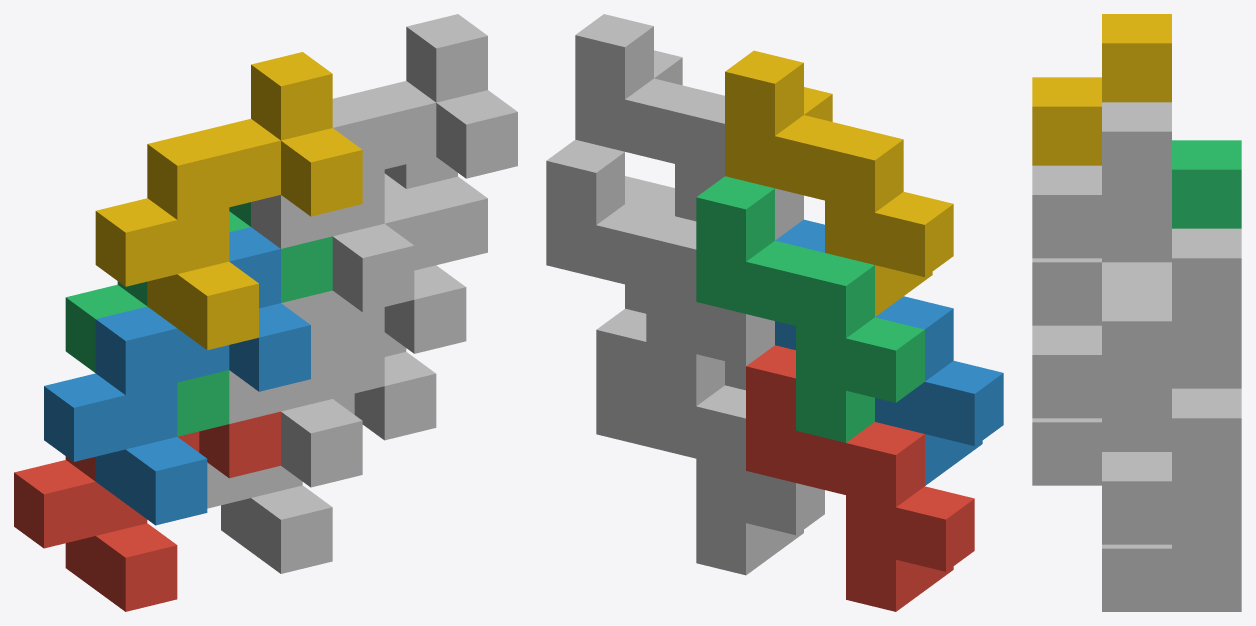
The model's file is tiling.obj.
The picture shows the model from 3 angles, left to right: view 1: azimuth 30°, elevation 25°; view 2: azimuth 150°, elevation 25°; view 3: azimuth 270°, elevation 25°; orthographic projection. The views are drawn at different scales.
Parts seen in each view (by area): view 1: copy_1_domain_4, copy_1_domain_2, copy_1_domain_8, copy_1_domain_6, copy_1_domain_1, copy_1_domain_5, copy_1_domain_3, copy_1_domain_7; view 2: copy_1_domain_3, copy_1_domain_4, copy_1_domain_1, copy_1_domain_7, copy_1_domain_5, copy_1_domain_8, copy_1_domain_2, copy_1_domain_6; view 3: copy_1_domain_5, copy_1_domain_8, copy_1_domain_7, copy_1_domain_6, copy_1_domain_4, copy_1_domain_3.
Boxes of the visible parts, left/top/right/bottom form: copy_1_domain_4: left=95, top=52, right=362, bottom=350; copy_1_domain_2: left=44, top=227, right=310, bottom=525; copy_1_domain_8: left=251, top=14, right=517, bottom=312; copy_1_domain_6: left=229, top=189, right=466, bottom=487; copy_1_domain_1: left=14, top=411, right=280, bottom=611; copy_1_domain_5: left=207, top=332, right=436, bottom=573; copy_1_domain_3: left=65, top=202, right=332, bottom=436; copy_1_domain_7: left=332, top=157, right=487, bottom=398; copy_1_domain_3: left=696, top=176, right=924, bottom=442; copy_1_domain_4: left=725, top=50, right=953, bottom=316; copy_1_domain_1: left=746, top=345, right=974, bottom=611; copy_1_domain_7: left=546, top=139, right=774, bottom=406; copy_1_domain_5: left=596, top=308, right=824, bottom=575; copy_1_domain_8: left=575, top=14, right=803, bottom=240; copy_1_domain_2: left=775, top=219, right=1003, bottom=485; copy_1_domain_6: left=625, top=183, right=745, bottom=390; copy_1_domain_5: left=1102, top=388, right=1241, bottom=611; copy_1_domain_8: left=1032, top=102, right=1171, bottom=325; copy_1_domain_7: left=1102, top=228, right=1241, bottom=451; copy_1_domain_6: left=1032, top=262, right=1171, bottom=485; copy_1_domain_4: left=1032, top=14, right=1171, bottom=165; copy_1_domain_3: left=1172, top=140, right=1241, bottom=228.
Size of the model in its own units: 8 by 9 by 3.
